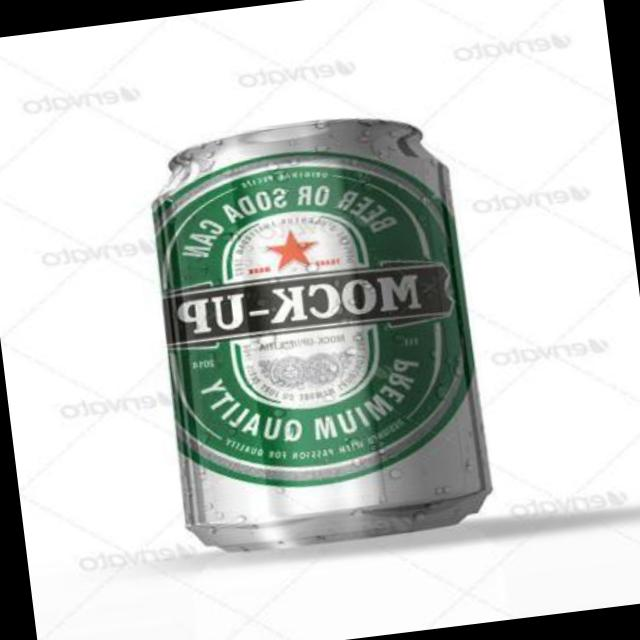metal: (155, 117, 491, 545)
